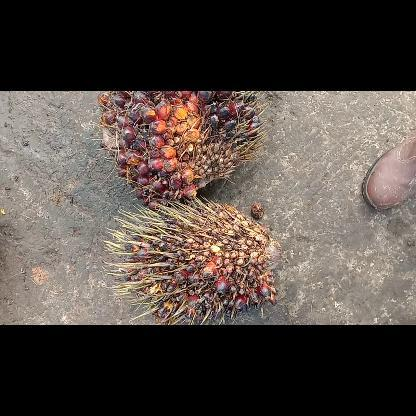Kurang masak: (95, 91, 267, 211)
TBS abnormal: (103, 194, 281, 324)
